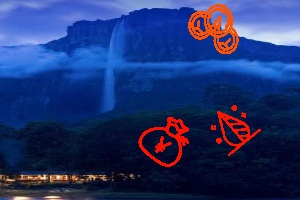三个圆: (187, 4, 241, 54)
竹笋模型: (210, 104, 263, 154)
钱袋: (139, 117, 188, 169)
